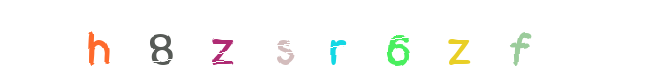6: (324, 0, 404, 80)
8: (121, 0, 201, 80)
F: (418, 0, 498, 80)
H: (57, 0, 137, 80)
R: (295, 0, 375, 80)
S: (286, 0, 366, 80)
Z: (182, 0, 262, 80), (357, 0, 437, 80)
